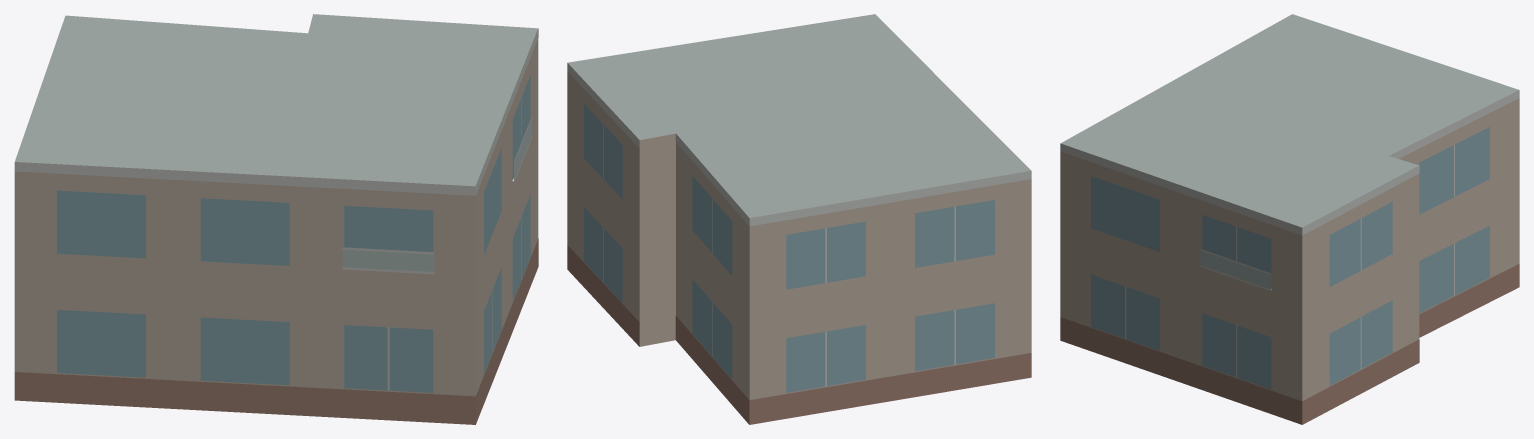
The model's file is survey-upis-32553708.glb.
3 views of the same model, side by side, from view 1: azimuth 30°, elevation 25°; view 2: azimuth 150°, elevation 25°; view 3: azimuth 270°, elevation 25° (orthographic). The views are drawn at different scales.
Parts seen in each view (by area): view 1: survey-upis-32553708.tmp; view 2: survey-upis-32553708.tmp; view 3: survey-upis-32553708.tmp.
Boxes of the visible parts, x1,y1,x2,y2 form: survey-upis-32553708.tmp: [14, 14, 538, 424]; survey-upis-32553708.tmp: [567, 14, 1031, 424]; survey-upis-32553708.tmp: [1060, 14, 1519, 424].
Bounding box in the file's own units: 14.18 × 6.1 × 12.88.
